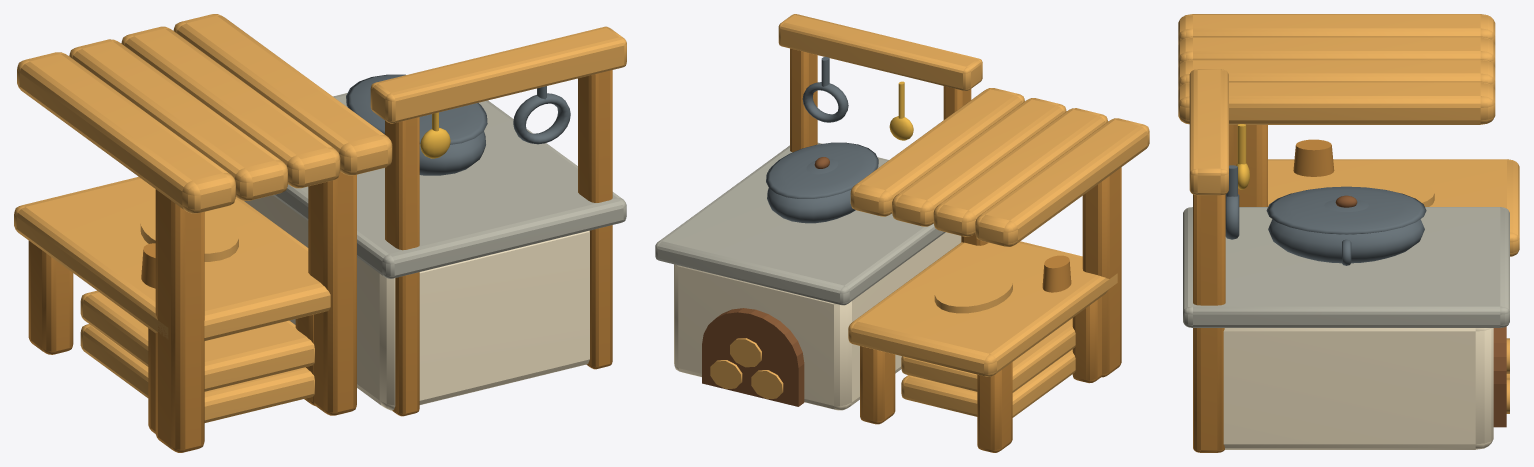
Rendered from stove.fbx.
The picture shows the model from 3 angles, left to right: view 1: azimuth 30°, elevation 25°; view 2: azimuth 150°, elevation 25°; view 3: azimuth 270°, elevation 25°; orthographic projection. The views are drawn at different scales.
Parts seen in each view (by area): view 1: stove; view 2: stove; view 3: stove.
Boxes of the visible parts, bbox=[...] form: stove: bbox=[14, 14, 626, 452]; stove: bbox=[655, 14, 1149, 452]; stove: bbox=[1178, 14, 1519, 452].
Bounding box in the file's own units: 2 × 1.4 × 1.5.
Materials: 1 (1 with a texture image).
